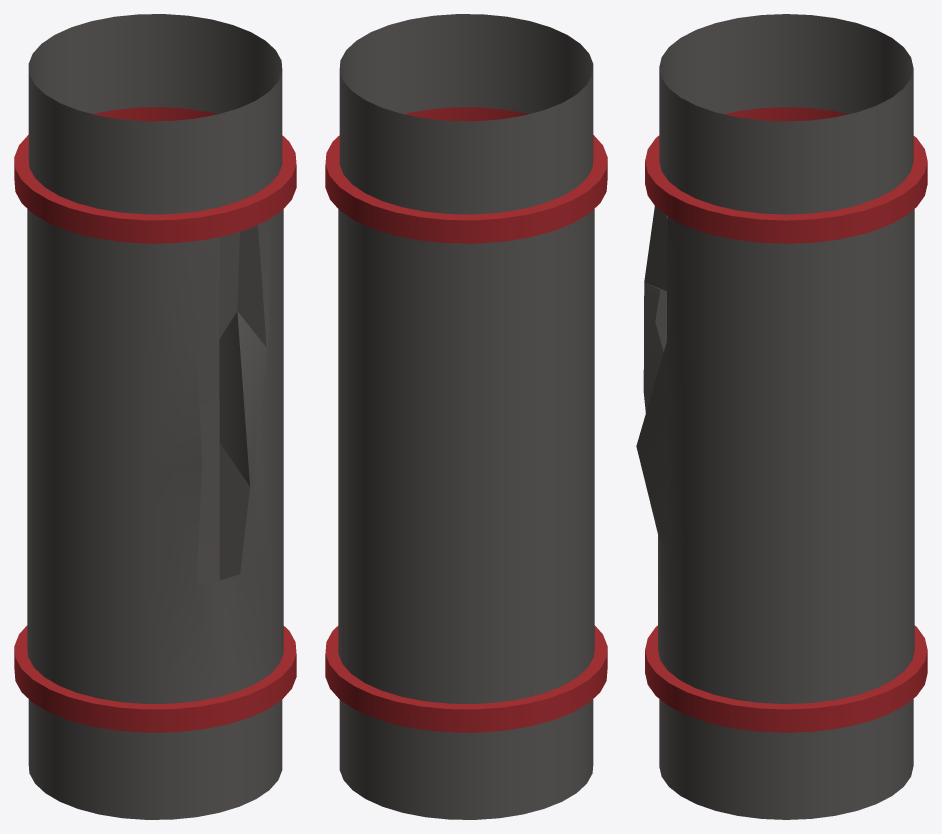
Rendered from Damaged Pipes.fbx.
The picture shows the model from 3 angles, left to right: view 1: azimuth 30°, elevation 25°; view 2: azimuth 150°, elevation 25°; view 3: azimuth 270°, elevation 25°; orthographic projection.
Visible parts, largest first — view 1: Cylinder; view 2: Cylinder; view 3: Cylinder.
Part boxes in pixels (left/top/right/bottom): Cylinder: left=14, top=14, right=296, bottom=819; Cylinder: left=325, top=14, right=607, bottom=819; Cylinder: left=636, top=14, right=927, bottom=819.
Bounding box in the file's own units: 220 × 600 × 227.
